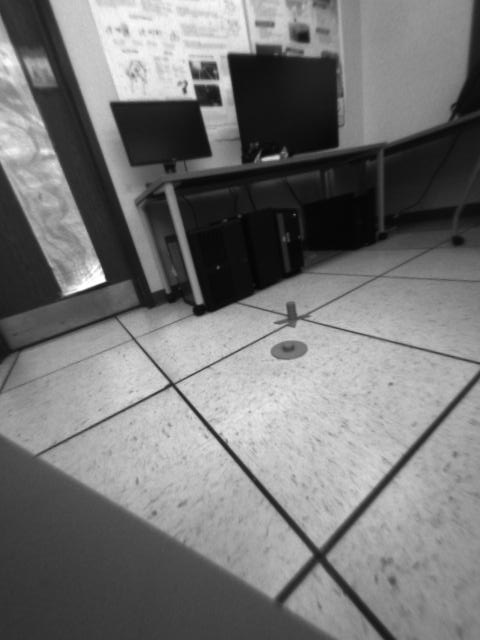X: (275, 302, 311, 328)
